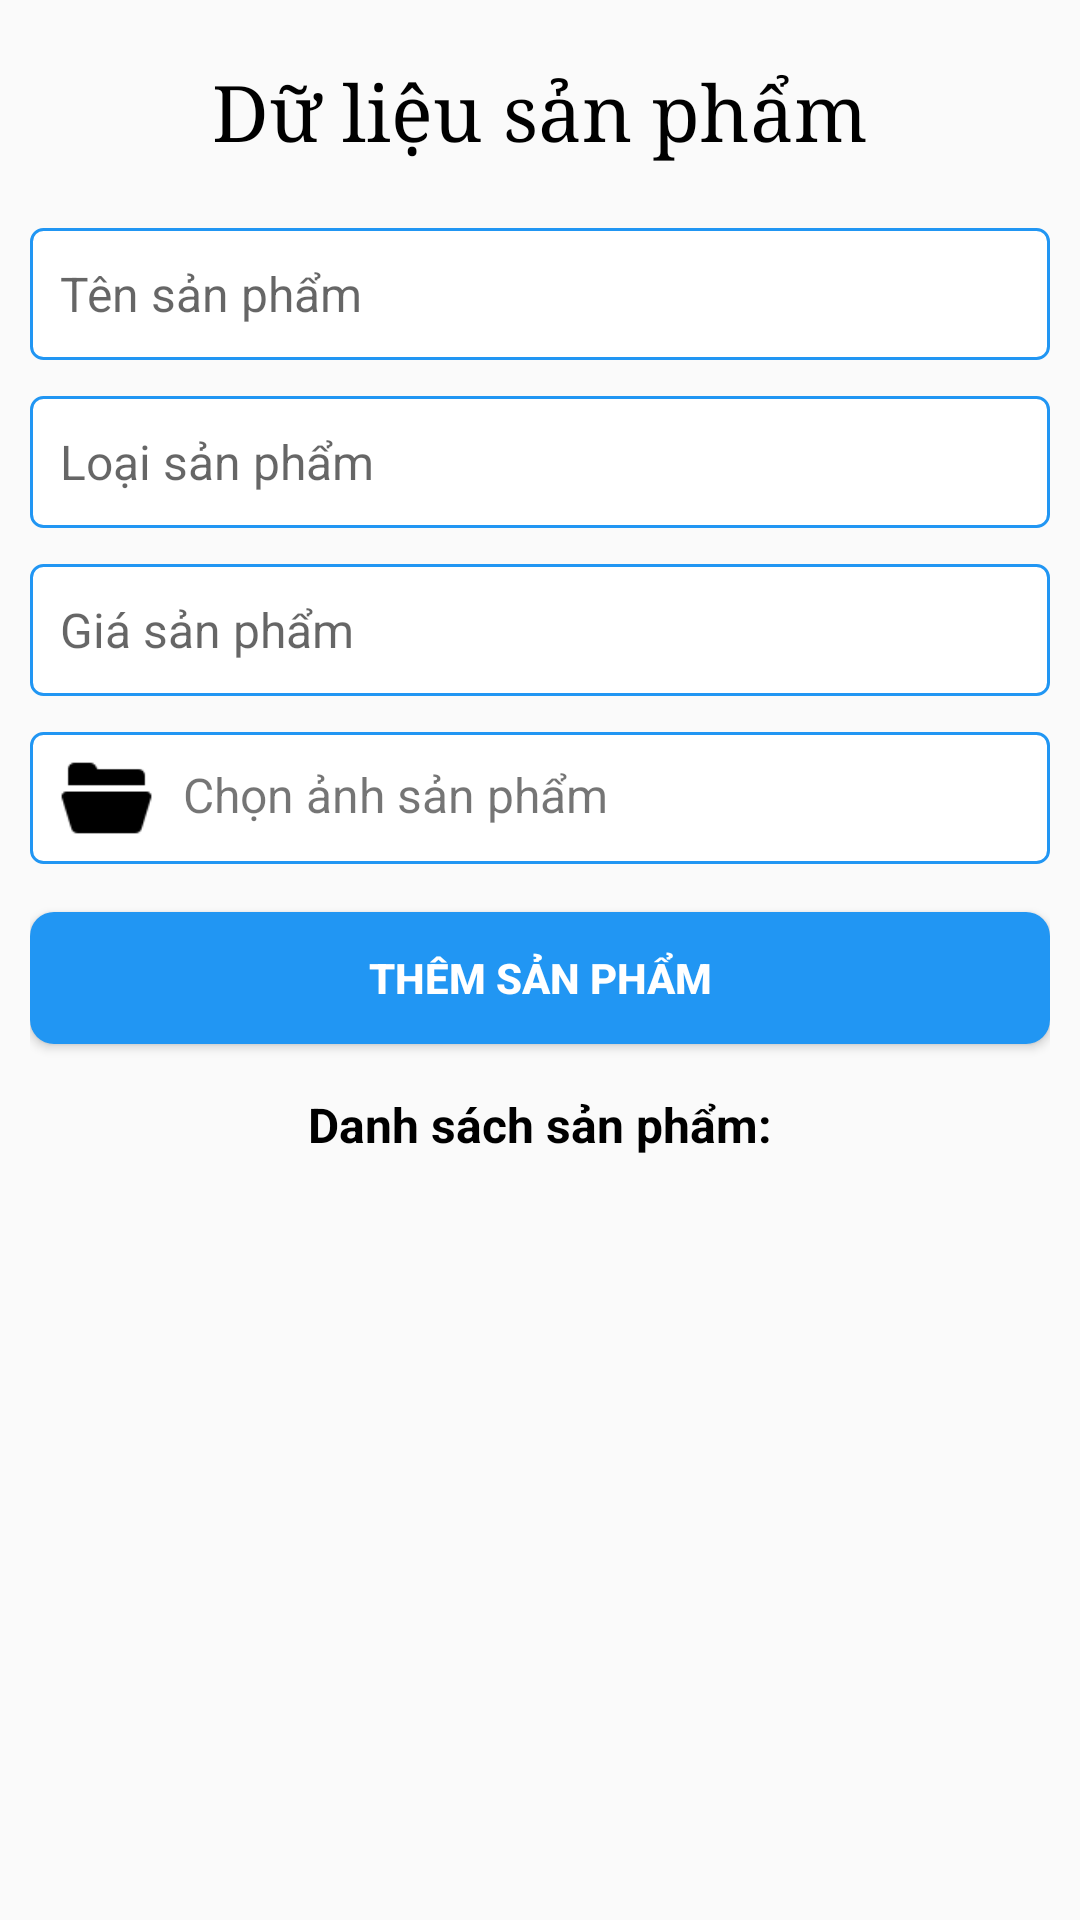

Where to tap for icons on this 1080px x 1920px app screen, as (x,y):
opened folder: (106,798)
